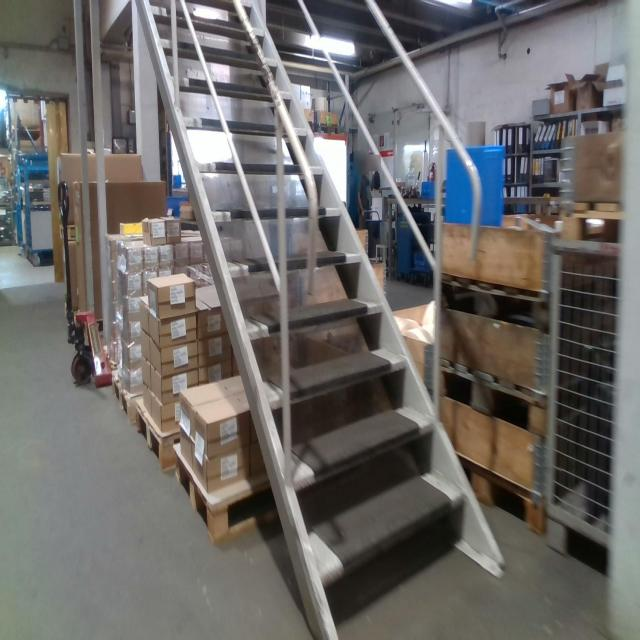pallet: (175, 426, 284, 545), (449, 448, 548, 542), (438, 354, 550, 437), (438, 270, 555, 324), (136, 396, 178, 477), (113, 368, 139, 424)
pallet_truck: (55, 174, 116, 389)
stillage: (542, 231, 624, 575)
